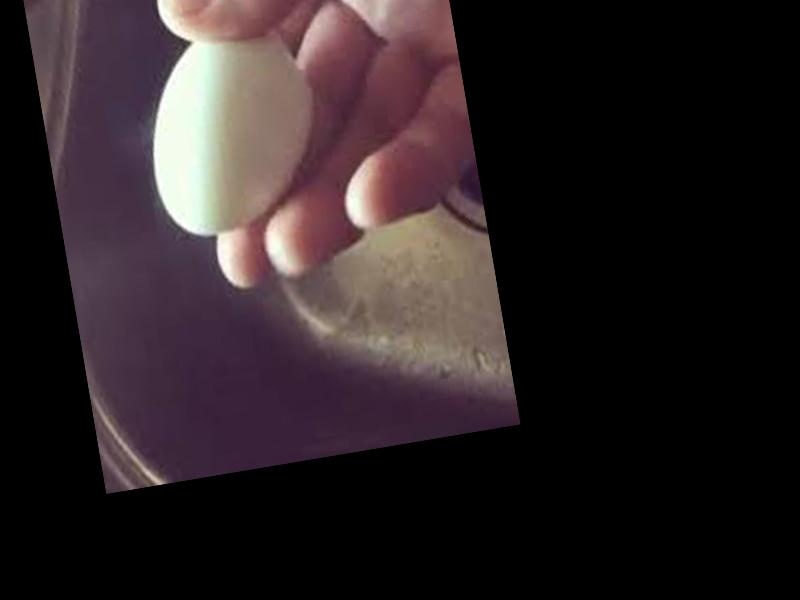Eggs: (133, 21, 326, 238)
